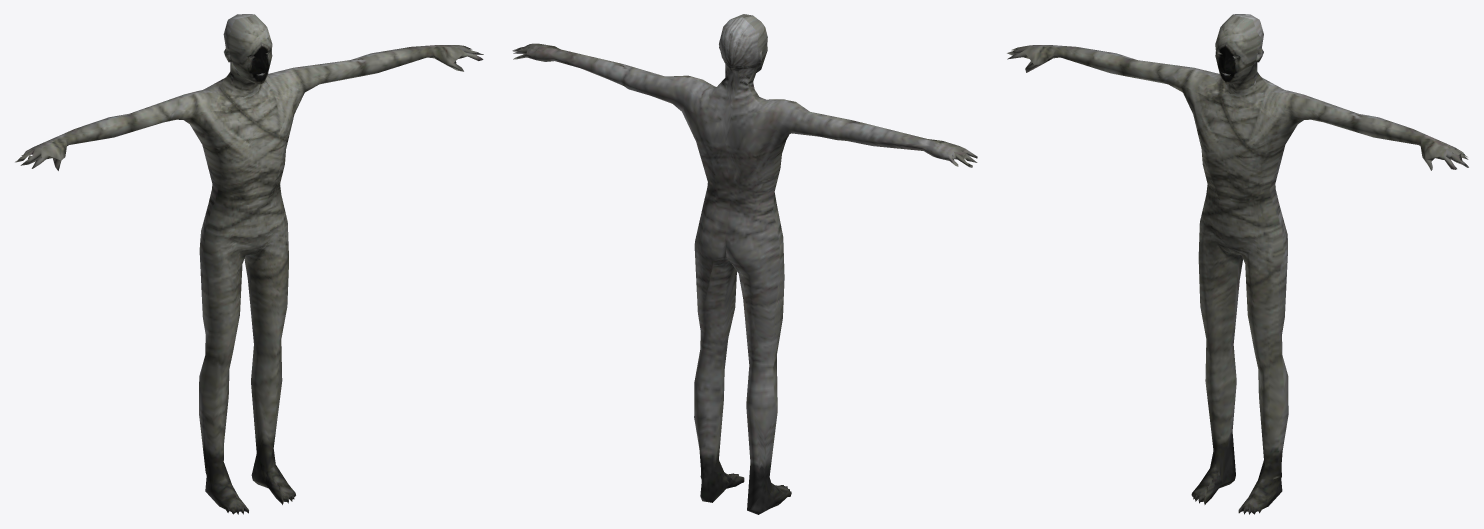
Rendered from pg_shrouded.obj.
The picture shows the model from 3 angles, left to right: view 1: azimuth 30°, elevation 25°; view 2: azimuth 150°, elevation 25°; view 3: azimuth 330°, elevation 25°; orthographic projection.
Parts seen in each view (by area): view 1: pg_shrouded; view 2: pg_shrouded; view 3: pg_shrouded.
Part boxes in pixels (x1=…): pg_shrouded: x1=15, y1=14, x2=483, y2=514; pg_shrouded: x1=512, y1=14, x2=977, y2=514; pg_shrouded: x1=1007, y1=14, x2=1468, y2=514.
Size of the model in its own units: 1.85 by 1.83 by 0.2712.
1 material, 1 textured.
